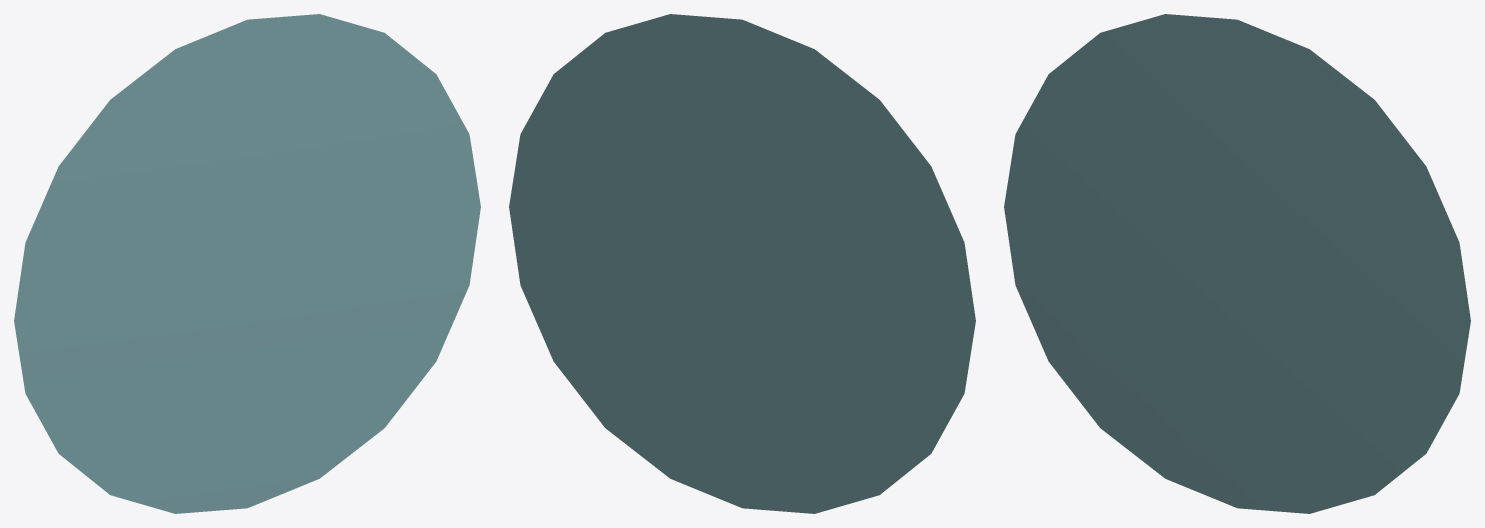
File: GlassRound.obj
3 views of the same model, side by side, from view 1: azimuth 30°, elevation 25°; view 2: azimuth 150°, elevation 25°; view 3: azimuth 330°, elevation 25° (orthographic).
Visible parts, largest first — view 1: RoundGlass1 WindowRound1 HouseBase1; view 2: RoundGlass1 WindowRound1 HouseBase1; view 3: RoundGlass1 WindowRound1 HouseBase1.
Boxes of the visible parts, bbox=[...] form: RoundGlass1 WindowRound1 HouseBase1: bbox=[14, 14, 480, 513]; RoundGlass1 WindowRound1 HouseBase1: bbox=[509, 14, 975, 513]; RoundGlass1 WindowRound1 HouseBase1: bbox=[1004, 14, 1470, 513].
Bounding box in the file's own units: 3.07 × 3.07 × 0.0225.
